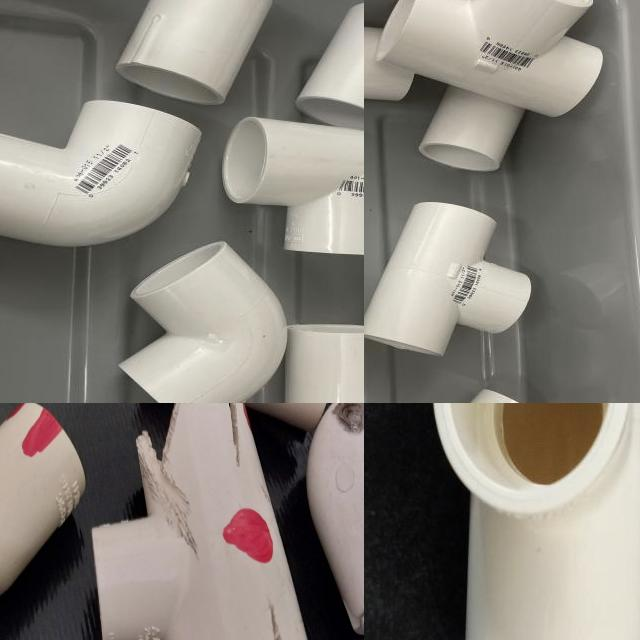Defective: (99, 505, 130, 543), (4, 403, 34, 434)
L Joint: (0, 100, 201, 249), (118, 243, 285, 403), (0, 403, 138, 580)
T Joint: (431, 403, 640, 640), (375, 0, 604, 117), (364, 202, 533, 358), (222, 119, 364, 256), (287, 327, 364, 403)
